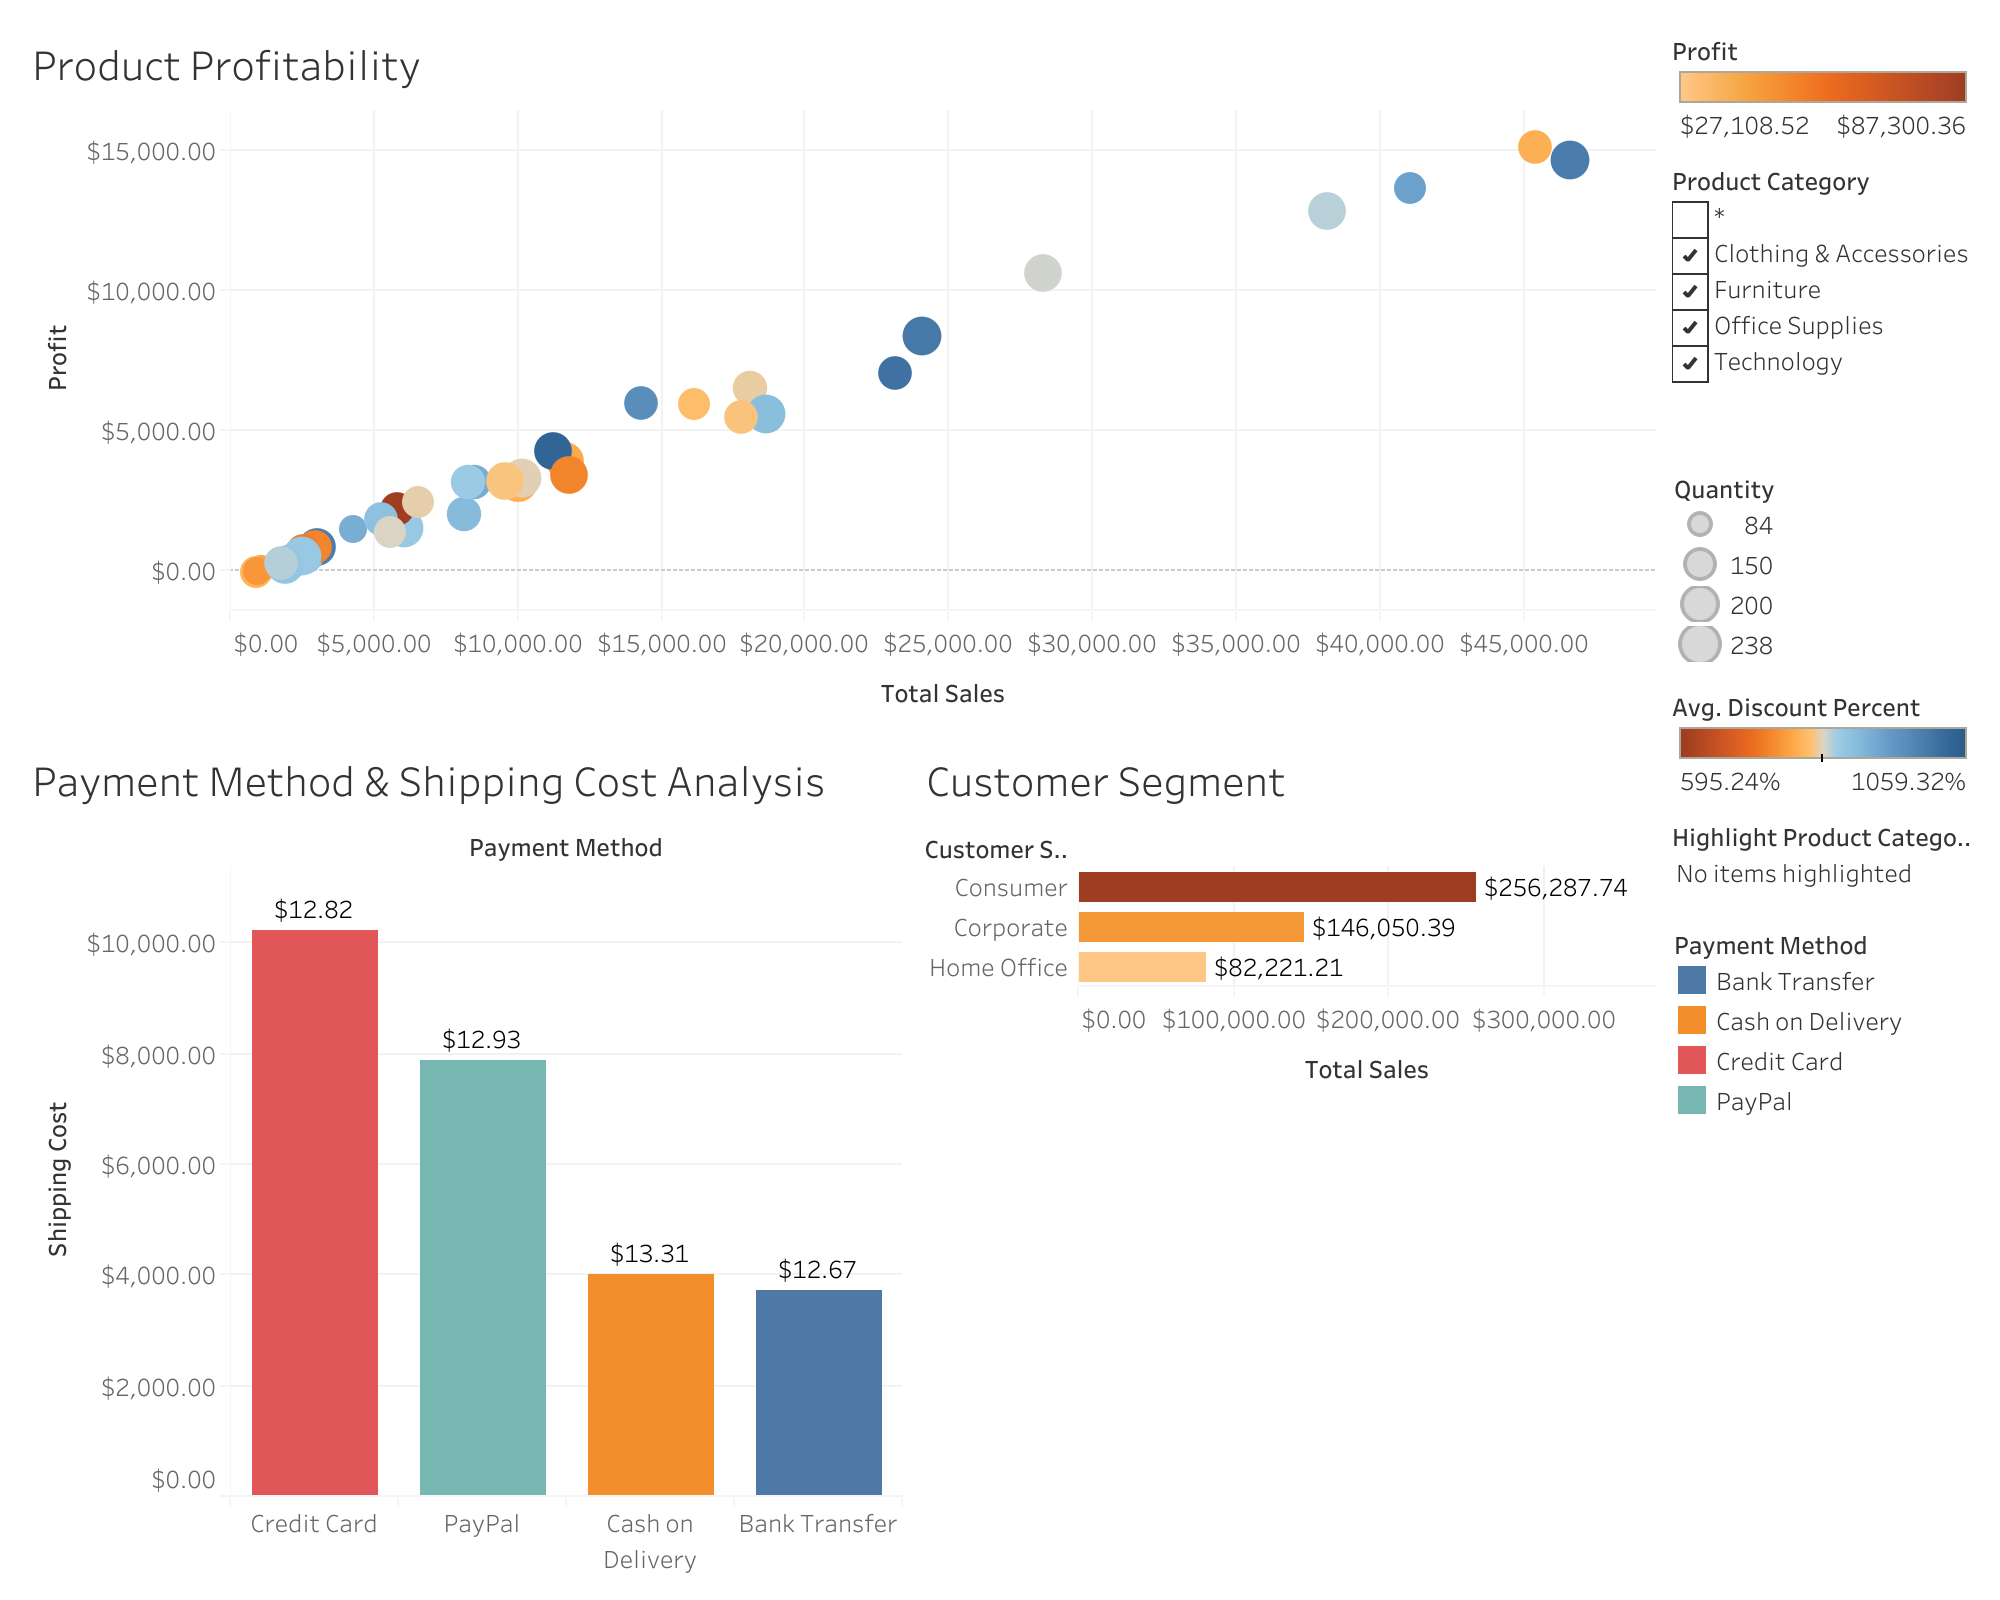

The dashboard page shown, as its layout file describes it:
{"tool":"tableau","page":{"name":"Operational Deep-Dive Dashboard","canvas":[1000,800],"ordinal":1},"visuals":[{"type":"worksheet","title":"Product Profitability","mark":"Circle","rows":["Profit"],"cols":["Total_Sales"],"box":[8,8,824,358]},{"type":"legend","title":"Customer Segment","param":"[federated.1rv59x7198itxz1ejjzr90bzzlbc].[sum:Profit:qk]","box":[832,8,160,68]},{"type":"filter","title":"Product Profitability","param":"[federated.1rv59x7198itxz1ejjzr90bzzlbc].[attr:Product_Category:nk]","box":[832,76,160,153]},{"type":"legend","title":"Product Profitability","param":"[federated.1rv59x7198itxz1ejjzr90bzzlbc].[sum:Quantity:qk]","box":[832,229,160,107]},{"type":"legend","title":"Product Profitability","param":"[federated.1rv59x7198itxz1ejjzr90bzzlbc].[avg:Discount_Percent:qk]","box":[832,336,160,68]},{"type":"worksheet","title":"Payment Method & Shipping Cost Analysis","mark":"Bar","rows":["Shipping_Cost"],"cols":["Payment_Method"],"box":[8,366,447,426]},{"type":"worksheet","title":"Customer Segment","mark":"Bar","rows":["Customer_Segment"],"cols":["Total_Sales"],"box":[455,366,377,426]},{"type":"highlighter","title":"Product Profitability","param":"[federated.1rv59x7198itxz1ejjzr90bzzlbc].[attr:Product_Category:nk]","box":[832,404,160,53]},{"type":"legend","title":"Payment Method & Shipping Cost Analysis","param":"[federated.1rv59x7198itxz1ejjzr90bzzlbc].[none:Payment_Method:nk]","box":[832,457,160,107]}]}

Visuals, with their boxes in screenshot pixels (x1, y1, x2, y2), scaled from the page's 1000x800 canvas onto the 2000x1600 screenshot:
"Product Profitability" worksheet (Circle marks): locate(16, 16, 1664, 732)
"Customer Segment" legend: locate(1664, 16, 1984, 152)
"Product Profitability" filter: locate(1664, 152, 1984, 458)
"Product Profitability" legend: locate(1664, 458, 1984, 672)
"Product Profitability" legend: locate(1664, 672, 1984, 808)
"Payment Method & Shipping Cost Analysis" worksheet (Bar marks): locate(16, 732, 910, 1584)
"Customer Segment" worksheet (Bar marks): locate(910, 732, 1664, 1584)
"Product Profitability" highlighter: locate(1664, 808, 1984, 914)
"Payment Method & Shipping Cost Analysis" legend: locate(1664, 914, 1984, 1128)
